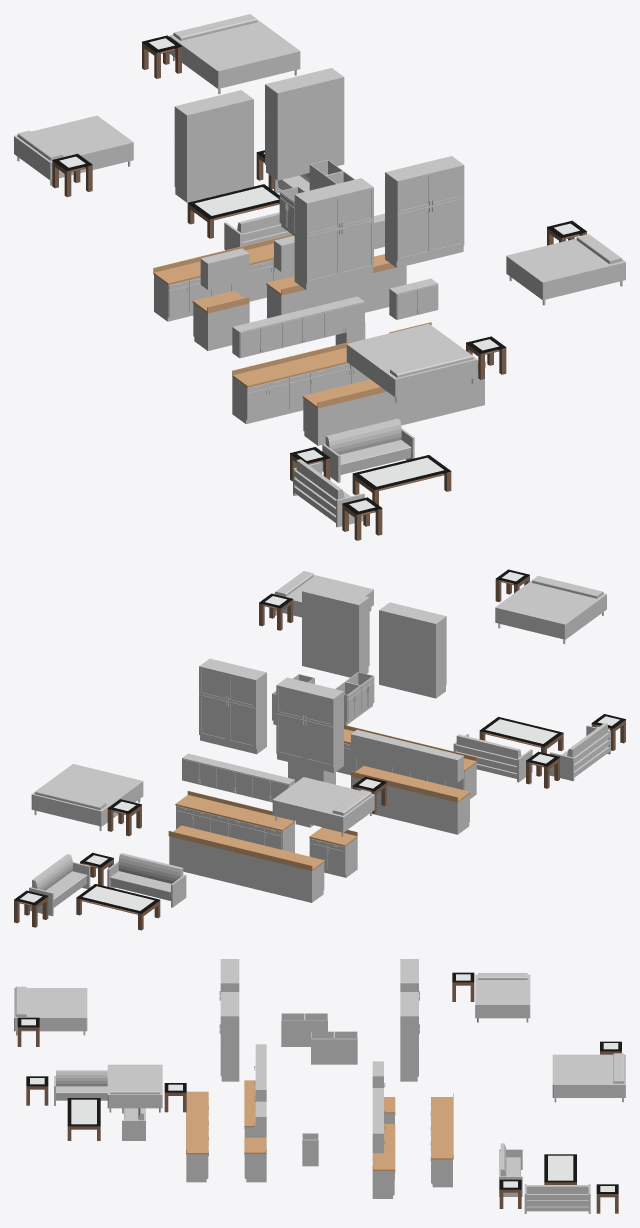
The model's file is IfcFurnishingElement.fbx.
The picture shows the model from 3 angles, top to bottom: view 1: azimuth 30°, elevation 25°; view 2: azimuth 150°, elevation 25°; view 3: azimuth 270°, elevation 25°; orthographic projection. The views are drawn at different scales.
Parts seen in each view (by area): view 1: M_Bed-Standard:168914, M_Bed-Standard:168717, M_Bed-Standard:169008, M_Bed-Standard:168449, M_Tall Cabinet-Single Door(2):158081, M_Tall Cabinet-Single Door(2):157200, M_Tall Cabinet-Single Door(2):157984, M_Tall Cabinet-Single Door(2):157950, M_Sofa:168378, M_Tall Cabinet-Single Door(2):158080, M_Tall Cabinet-Single Door(2):157951, M_Tall Cabinet-Single Door(2):157607 (+26 smaller); view 2: M_Bed-Standard:168914, M_Bed-Standard:168717, M_Bed-Standard:168449, M_Tall Cabinet-Single Door(2):157200, M_Tall Cabinet-Single Door(2):157984, M_Tall Cabinet-Single Door(2):157950, M_Tall Cabinet-Single Door(2):158081, M_Sofa:167426, M_Tall Cabinet-Single Door(2):157607, M_Tall Cabinet-Single Door(2):157951, M_Tall Cabinet-Single Door(2):157983, M_Tall Cabinet-Single Door(2):158080 (+30 smaller); view 3: M_Bed-Standard:168717, M_Bed-Standard:168914, M_Bed-Standard:168449, M_Bed-Standard:169008, M_Sofa:167283, M_Sofa:168377, M_Tall Cabinet-Single Door(2):157951, M_Tall Cabinet-Single Door(2):157983, M_Counter Top:162494, M_Counter Top:162231, M_Table-Coffee:168381 (×2), M_Sofa:167426 (+18 smaller).
Part boxes in pixels (<box>): M_Bed-Standard:168914: <box>346,324,477,402</box>; M_Bed-Standard:168717: <box>169,14,300,94</box>; M_Bed-Standard:169008: <box>506,234,625,305</box>; M_Bed-Standard:168449: <box>14,115,133,185</box>; M_Tall Cabinet-Single Door(2):158081: <box>174,98,220,202</box>; M_Tall Cabinet-Single Door(2):157200: <box>294,186,340,290</box>; M_Tall Cabinet-Single Door(2):157984: <box>265,76,310,180</box>; M_Tall Cabinet-Single Door(2):157950: <box>385,164,430,267</box>; M_Sofa:168378: <box>322,418,414,482</box>; M_Tall Cabinet-Single Door(2):158080: <box>208,90,253,194</box>; M_Tall Cabinet-Single Door(2):157951: <box>419,156,464,259</box>; M_Tall Cabinet-Single Door(2):157607: <box>328,178,373,281</box>; M_Bed-Standard:168914: <box>495,576,606,644</box>; M_Bed-Standard:168717: <box>31,764,143,830</box>; M_Bed-Standard:168449: <box>272,777,374,836</box>; M_Tall Cabinet-Single Door(2):157200: <box>407,609,446,698</box>; M_Tall Cabinet-Single Door(2):157984: <box>227,665,266,754</box>; M_Tall Cabinet-Single Door(2):157950: <box>330,590,369,677</box>; M_Tall Cabinet-Single Door(2):158081: <box>305,684,343,772</box>; M_Sofa:167426: <box>107,853,186,907</box>; M_Tall Cabinet-Single Door(2):157607: <box>379,602,417,691</box>; M_Tall Cabinet-Single Door(2):157951: <box>302,583,340,672</box>; M_Tall Cabinet-Single Door(2):157983: <box>199,658,237,747</box>; M_Tall Cabinet-Single Door(2):158080: <box>276,677,314,765</box>; M_Bed-Standard:168717: <box>552,1053,625,1102</box>; M_Bed-Standard:168914: <box>14,986,87,1035</box>; M_Bed-Standard:168449: <box>475,973,530,1022</box>; M_Bed-Standard:169008: <box>107,1064,162,1112</box>; M_Sofa:167283: <box>524,1184,590,1213</box>; M_Sofa:168377: <box>54,1070,107,1105</box>; M_Tall Cabinet-Single Door(2):157951: <box>219,1004,239,1081</box>; M_Tall Cabinet-Single Door(2):157983: <box>400,1004,419,1081</box>; M_Counter Top:162494: <box>186,1091,208,1154</box>; M_Counter Top:162231: <box>431,1097,453,1159</box>; M_Table-Coffee:168381 (×2): <box>67,1098,100,1126</box>; M_Sofa:167426: <box>499,1143,522,1196</box>.
Bounding box in the file's own units: 7.91 × 16.98 × 5.1.
